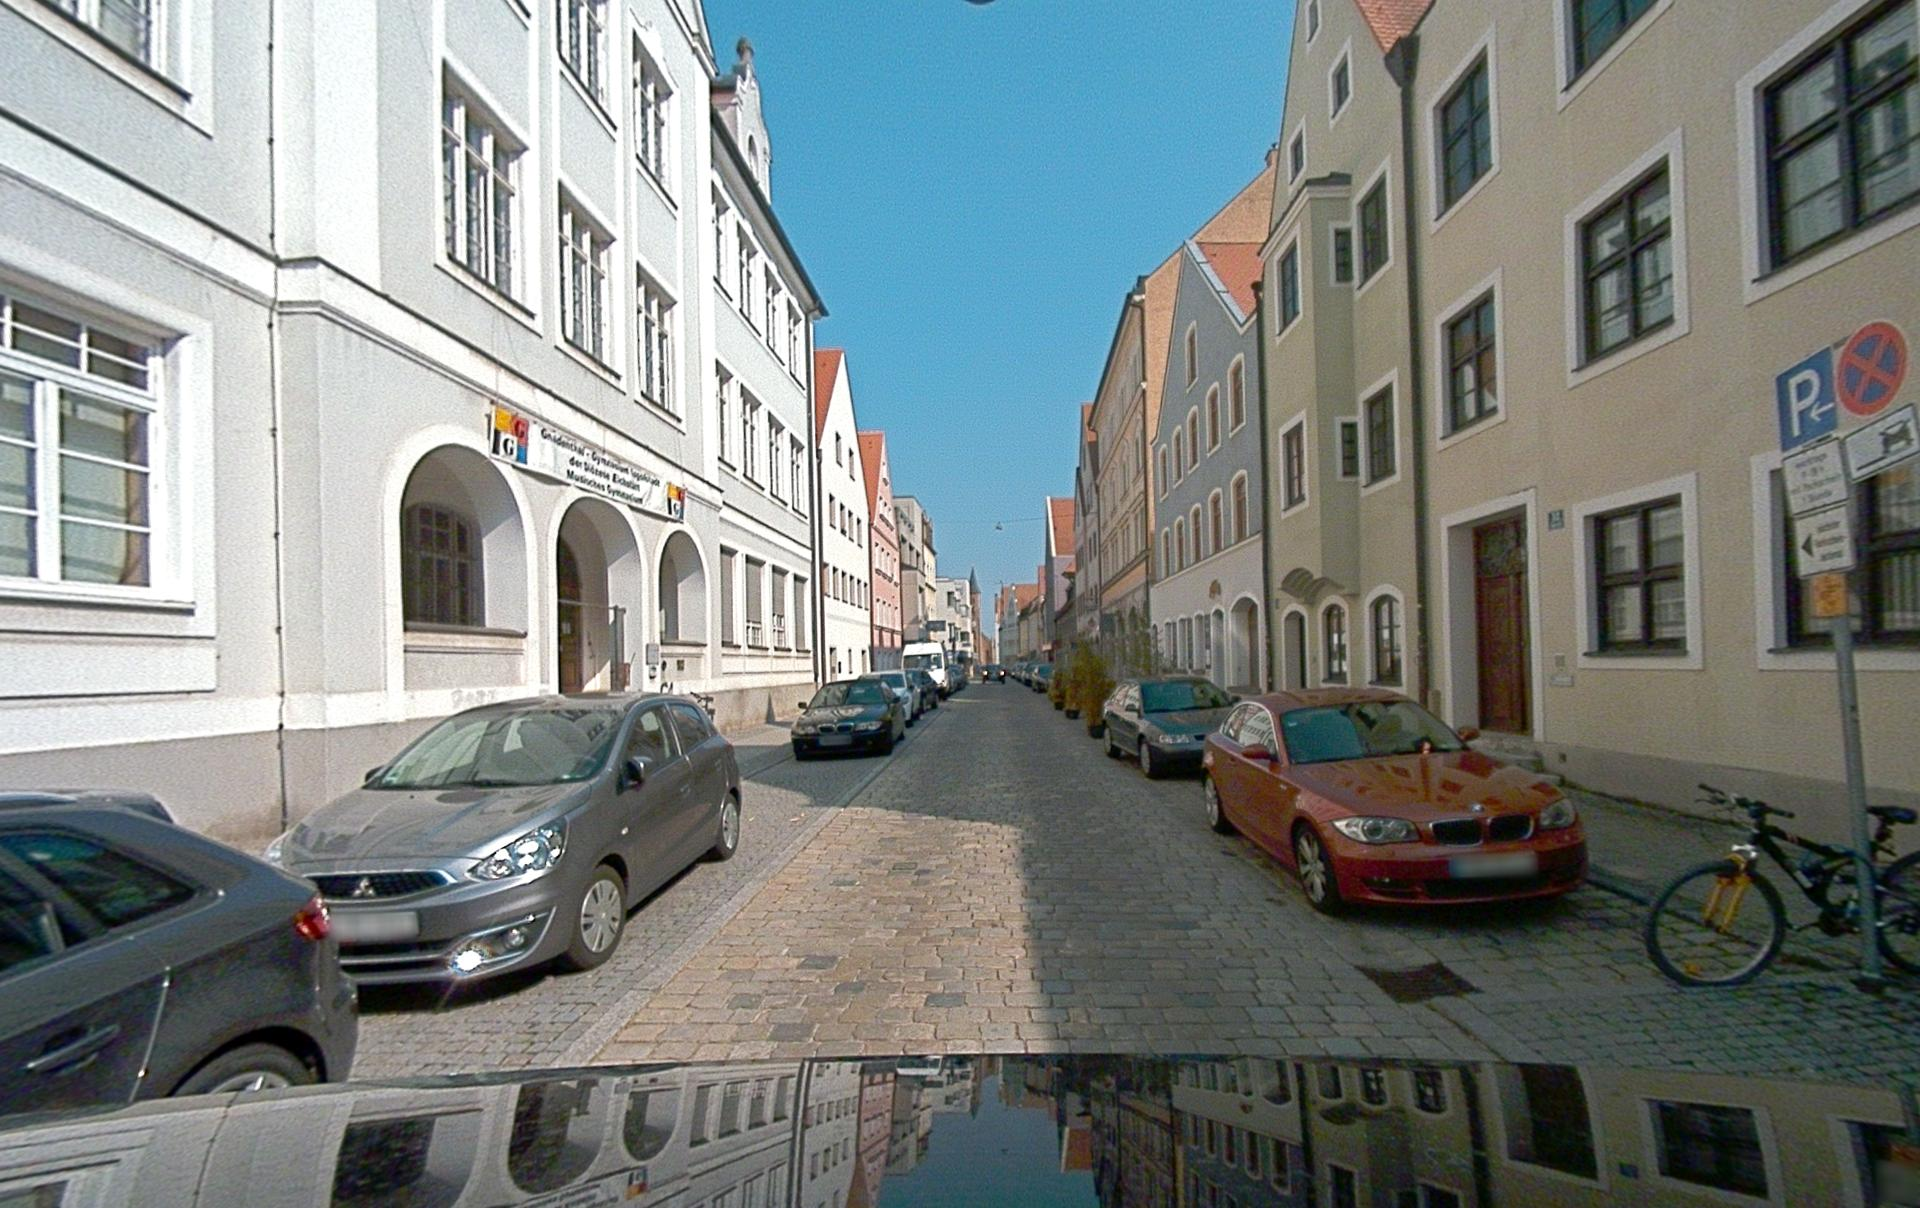car: (263, 690, 743, 992), (0, 788, 359, 1119), (1202, 685, 1589, 914), (1102, 675, 1240, 779), (790, 676, 906, 760), (868, 671, 921, 725), (904, 668, 939, 710), (1031, 662, 1055, 692)
